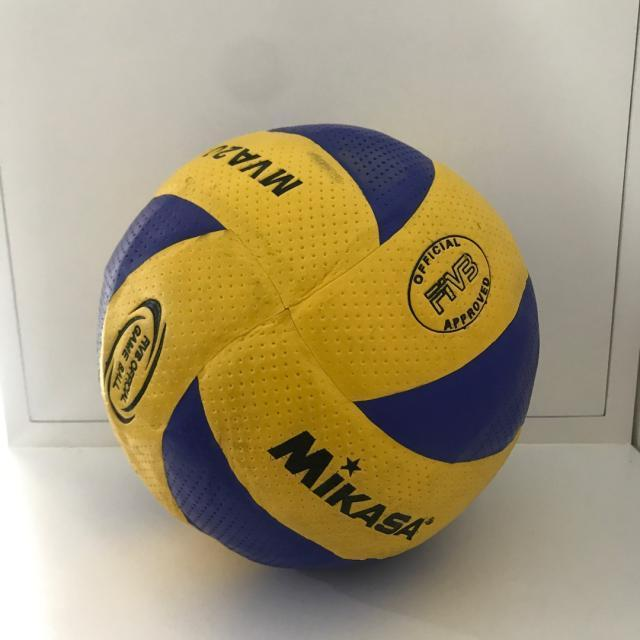volleyball: (96, 123, 540, 569)
